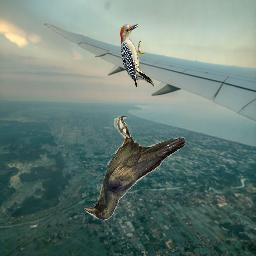Crow: (83, 117, 186, 222)
Woodpecker: (116, 21, 155, 87)
